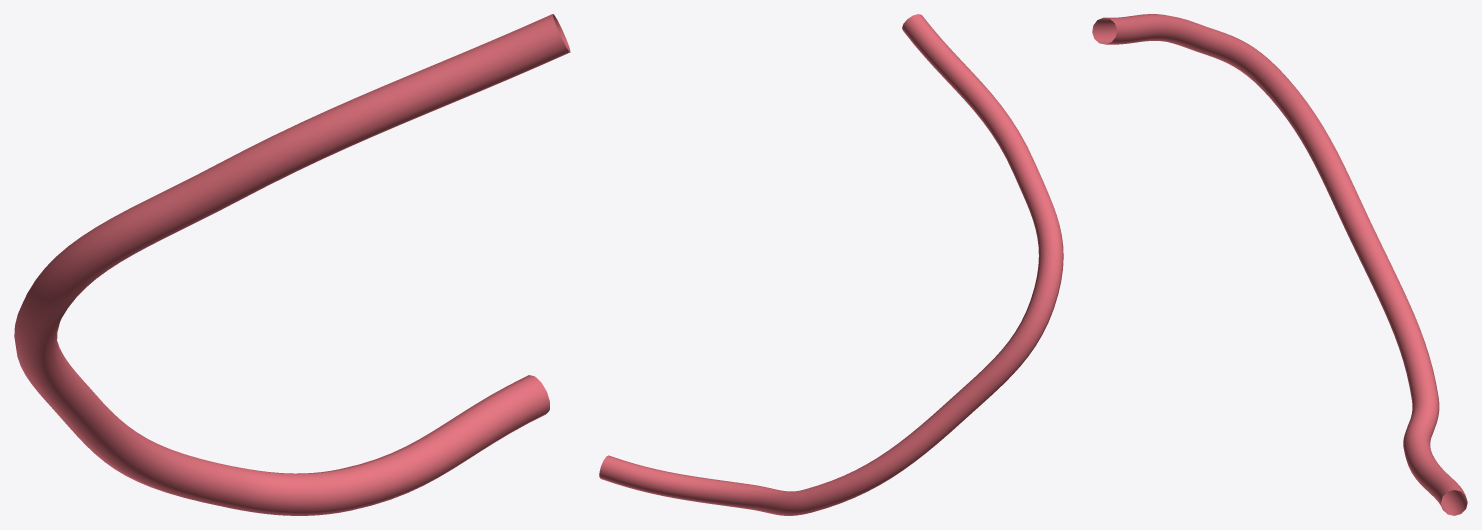
3 views of the same model, side by side, from view 1: azimuth 30°, elevation 25°; view 2: azimuth 150°, elevation 25°; view 3: azimuth 270°, elevation 25° (orthographic). The views are drawn at different scales.
Visible parts, largest first — view 1: ZA_59ba89f894dc89dd; view 2: ZA_59ba89f894dc89dd; view 3: ZA_59ba89f894dc89dd.
Part boxes in pixels (x1,y1,x2,y2): ZA_59ba89f894dc89dd: [14, 14, 570, 515]; ZA_59ba89f894dc89dd: [599, 14, 1063, 515]; ZA_59ba89f894dc89dd: [1092, 14, 1467, 515].
Size of the model in its own units: 0.0243 by 0.0246 by 0.0195.
